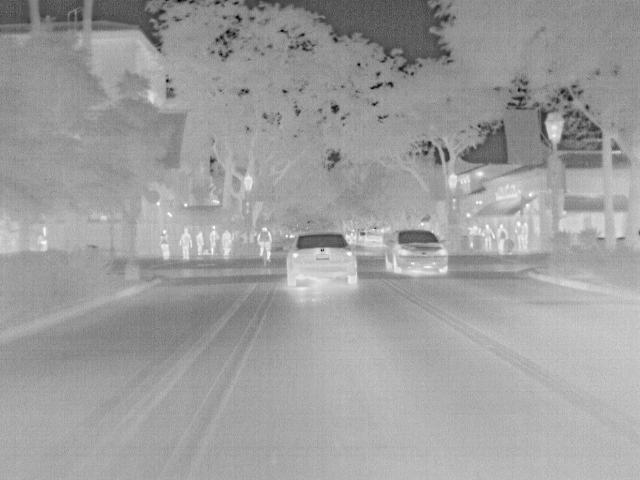car: (284, 230, 360, 290), (383, 225, 452, 276), (360, 228, 384, 246)
person: (258, 224, 274, 264), (176, 227, 194, 260), (514, 220, 530, 250), (495, 223, 508, 255), (160, 227, 172, 261), (207, 226, 221, 255), (220, 228, 232, 257), (483, 223, 495, 250)
